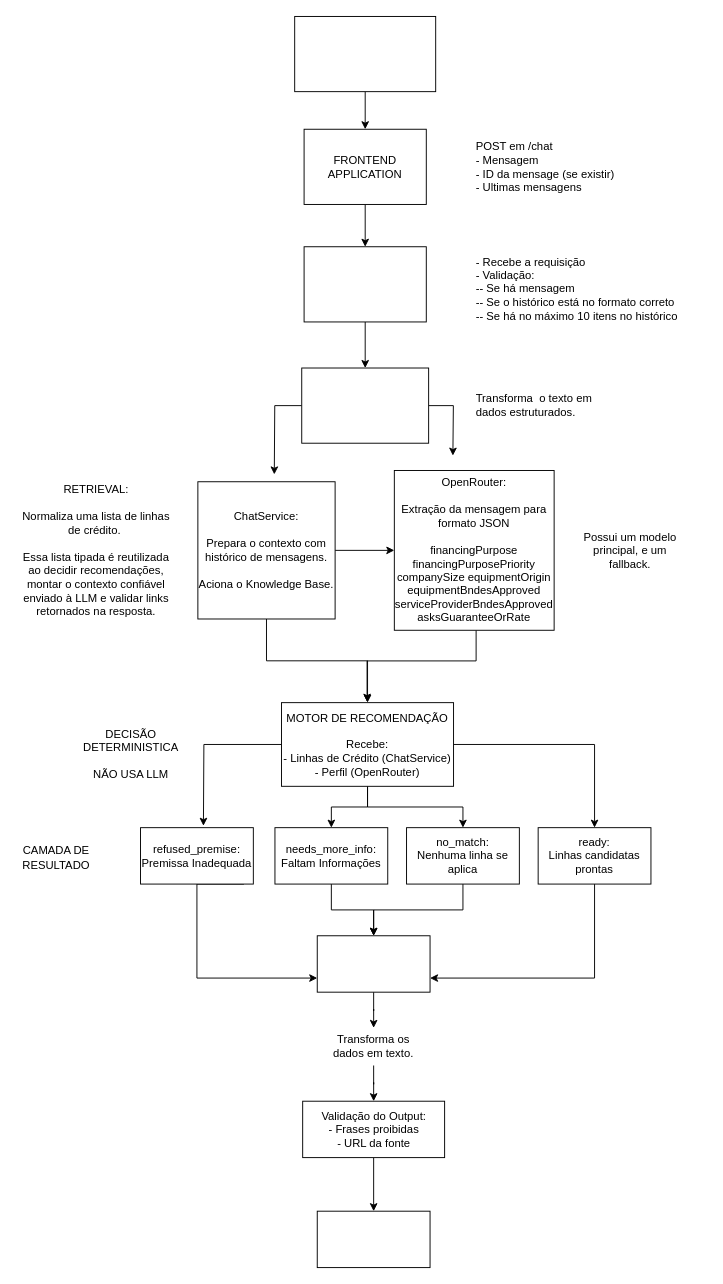
The diagram is 723 pixels wide and 1284 high, and some of its shapes have lost their labels. The centre of each missing label's shape, as x and y in pixels:
BACKEND APPLICATION: point (364, 284)
DÚVIDA DO USUÁRIO (Preciso de 20k de capital de giro...): point (365, 54)
FRONT END: Atualiza o chat.: point (373, 1239)
LLM #1: point (365, 405)
LLM #2: Open Router: point (373, 963)
